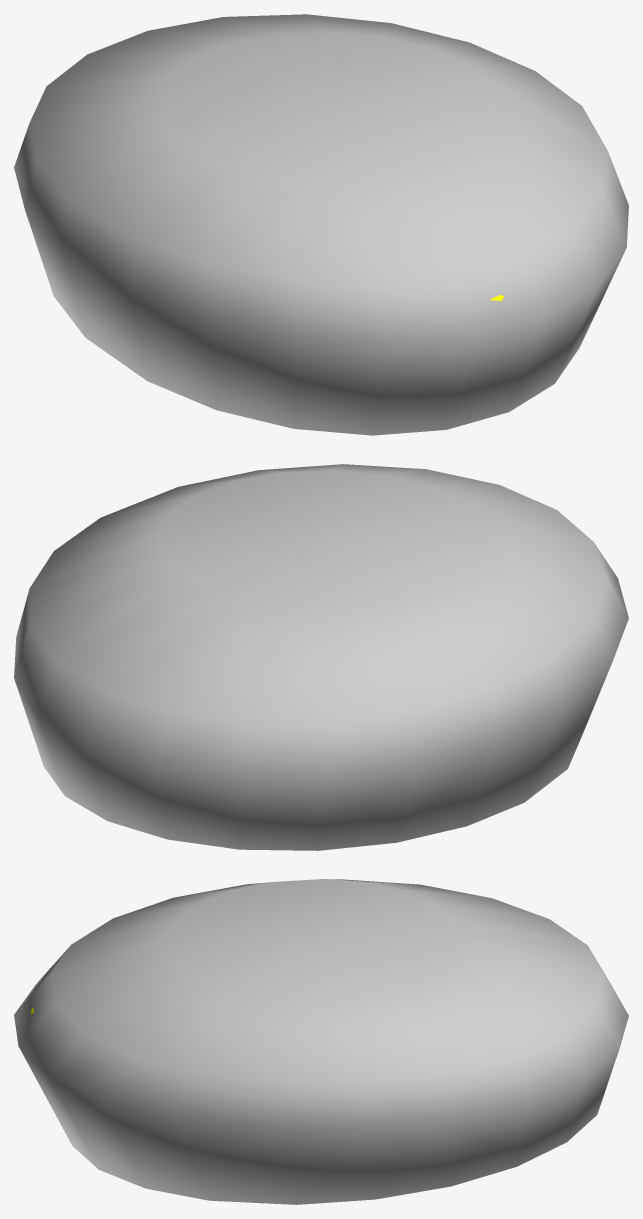
File: sm_hana_pms_payment_terminal.glb
The picture shows the model from 3 angles, top to bottom: view 1: azimuth 30°, elevation 25°; view 2: azimuth 150°, elevation 25°; view 3: azimuth 270°, elevation 25°; orthographic projection. The views are drawn at different scales.
Parts seen in each view (by area): view 1: sm_color_common; view 2: sm_color_common; view 3: sm_color_common.
Boxes of the visible parts, bbox=[...] form: sm_color_common: bbox=[14, 14, 628, 435]; sm_color_common: bbox=[14, 464, 628, 850]; sm_color_common: bbox=[14, 879, 628, 1204].
Bounding box in the file's own units: 0.4639 × 0.1922 × 0.5681.
Materials: 2 (1 with a texture image).
